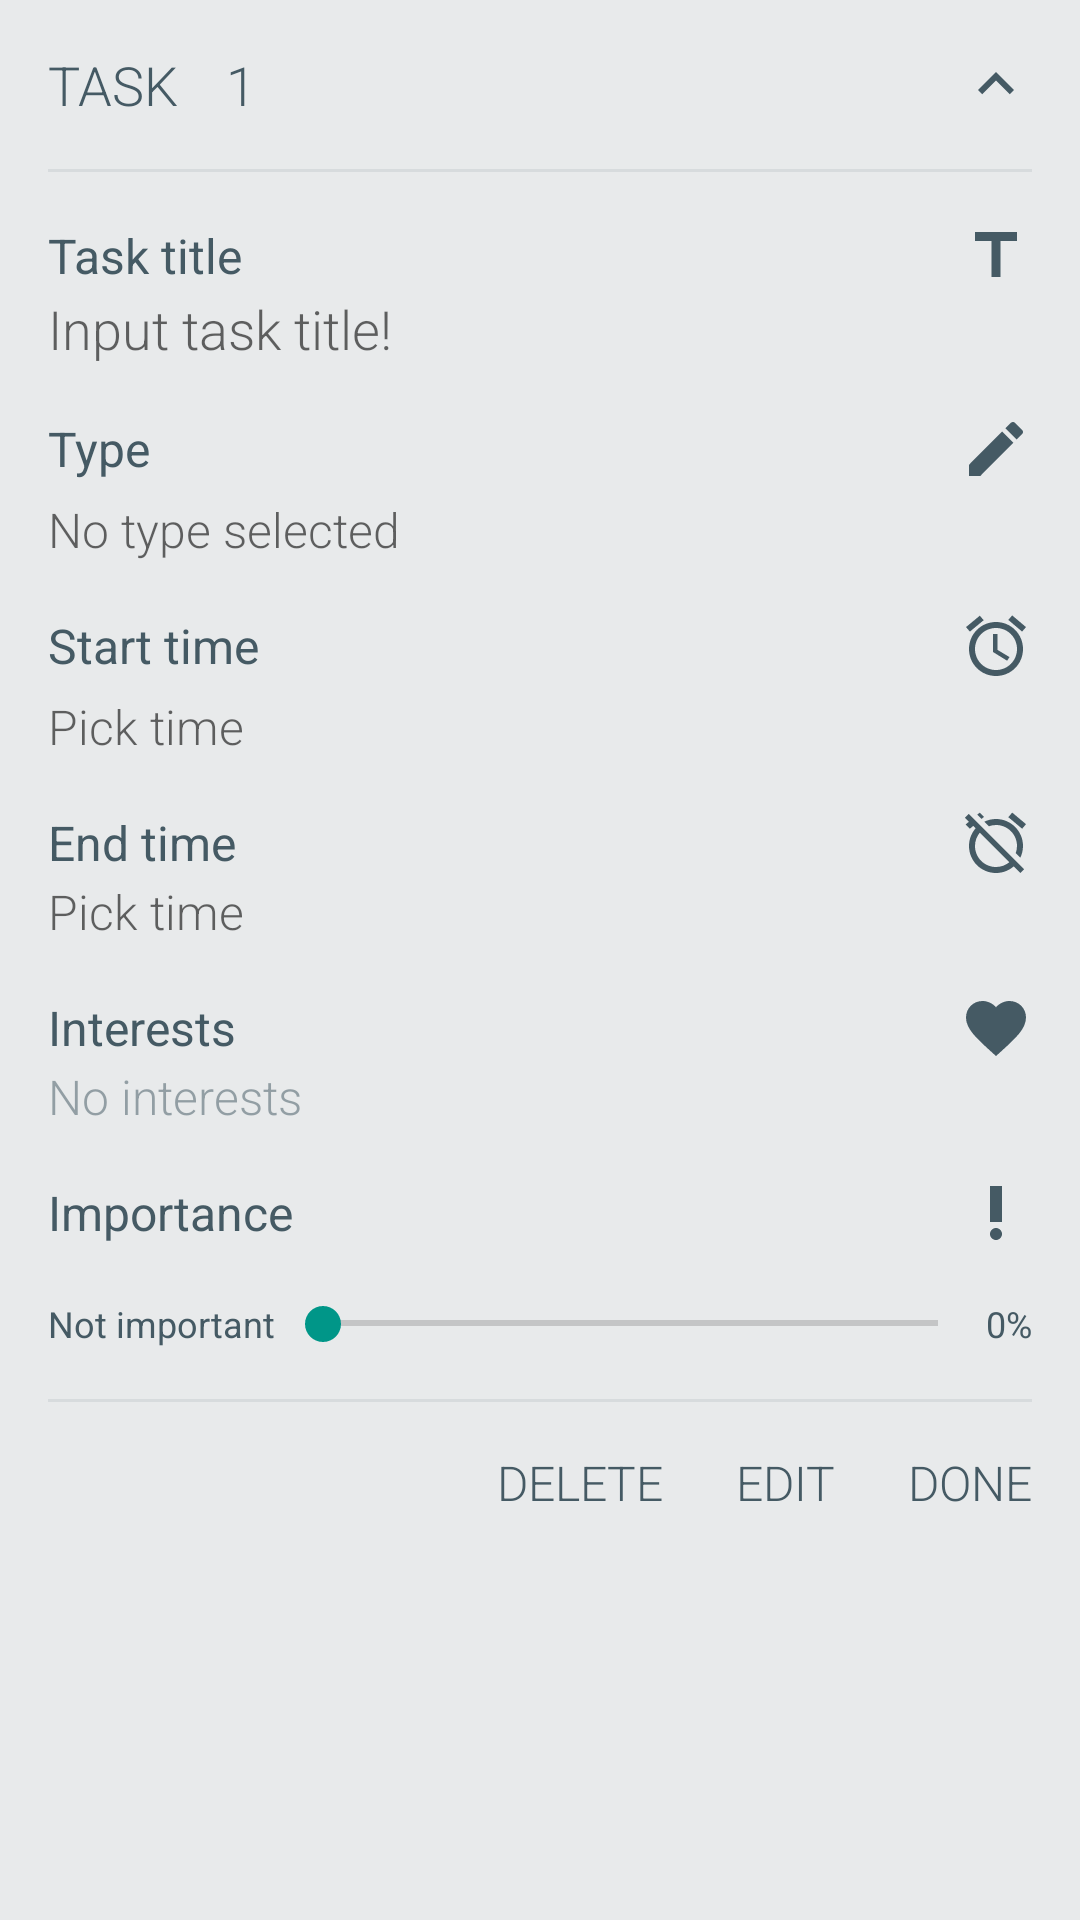

Where icons sit on this 1080 × 1920 app screen, as (x1, y1, x2, y2):
expand less: (978, 72, 1014, 94)
from time schedule: (966, 615, 1026, 676)
importance: (990, 1186, 1002, 1240)
schedule input interest: (966, 1001, 1026, 1056)
schedule input lesson type: (969, 422, 1023, 476)
schedule title: (975, 232, 1017, 277)
to time schedule: (965, 813, 1026, 873)
